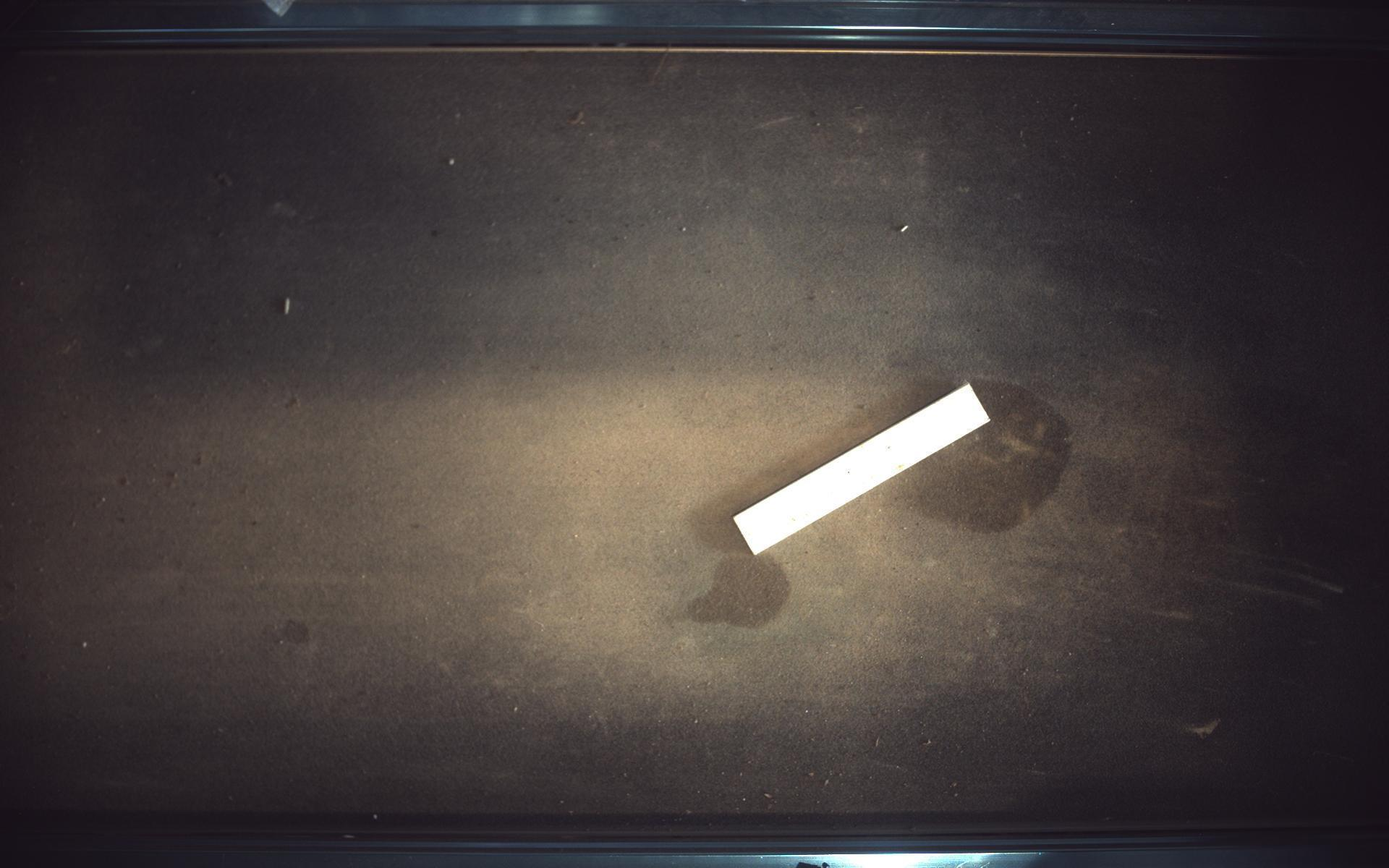pipes: (736, 383, 992, 555)
